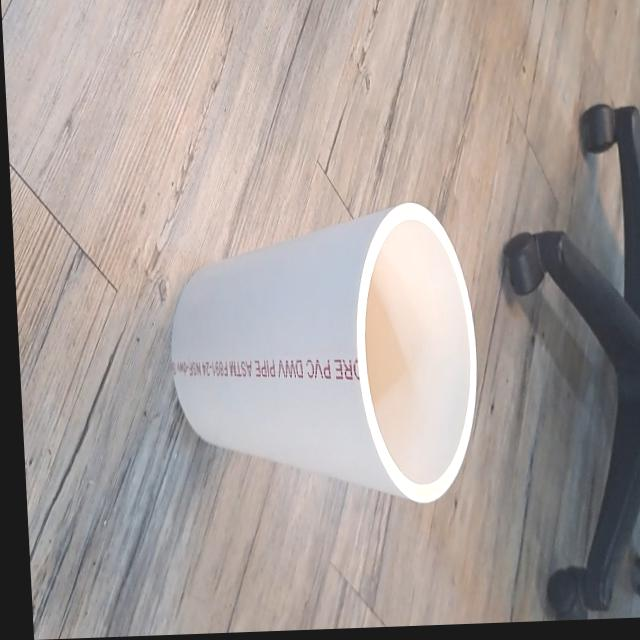CORAL: (156, 185, 491, 535)
